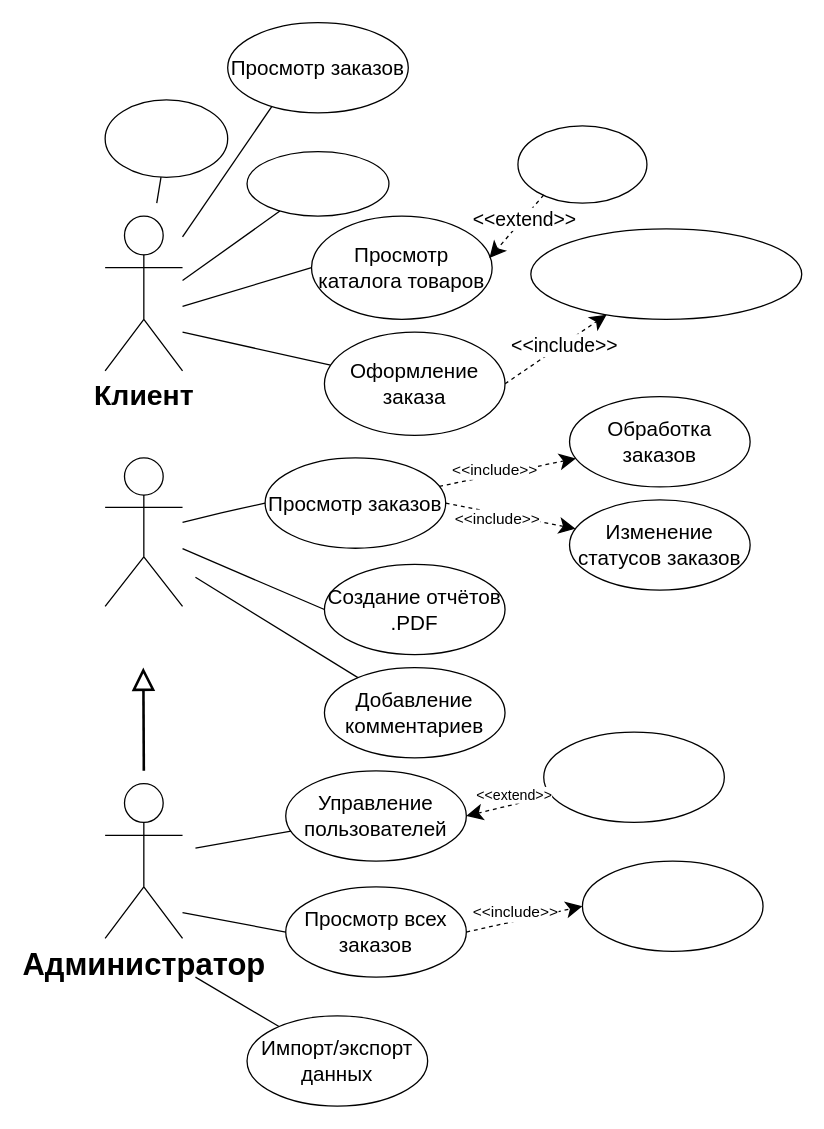
Some shapes in this 824 by 1129 pixel diagram are drawn without their labels. Here are the shapes that lost their labels. From the top down, the centre of each, then its label:
At point (166, 138): "Регистрация".
At point (317, 183): "Авторизация".
At point (582, 163): "Поиск товаров".
At point (666, 273): "Добавление товаров в корзину".
At point (143, 531): "Сотрудник".
At point (633, 776): "Управление ролями пользователей".
At point (672, 905): "Управление статусами заказов".
